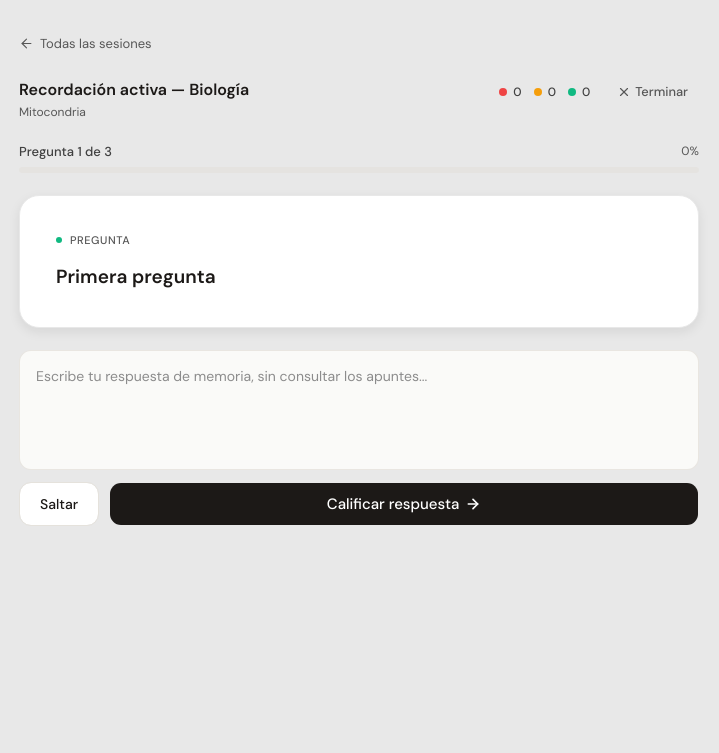
ActiveRecallPlayer persistence › 'Nueva sesión' during pending saves still saves into and finishes the old session
In the text box with test id "answer-textarea": (359, 410) [19,350,699,470], type "a"
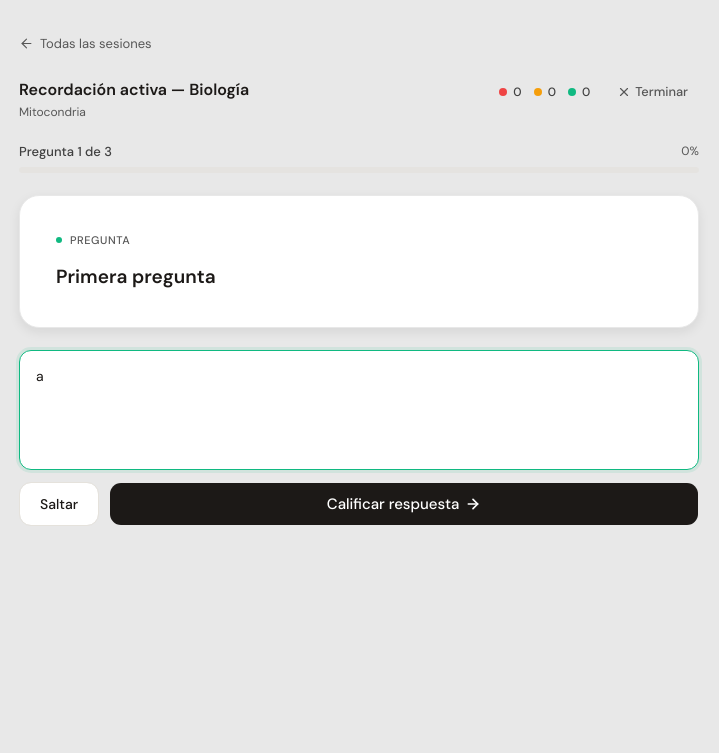
Click the button "Calificar respuesta": click(404, 504) [109,482,699,526]
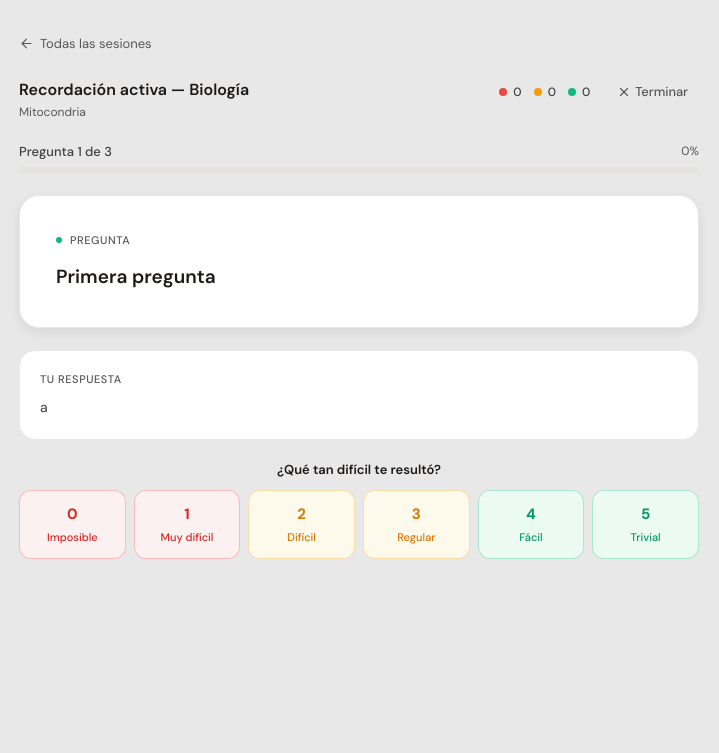
Click the button "4 Fácil": click(531, 524) [478,490,584,559]
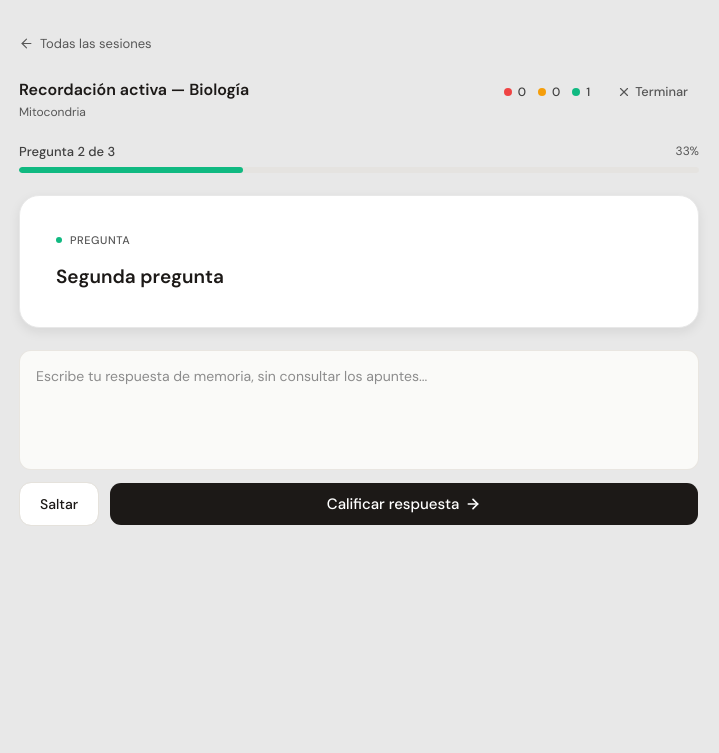
Click the button "Saltar": click(59, 504) [19,482,99,526]
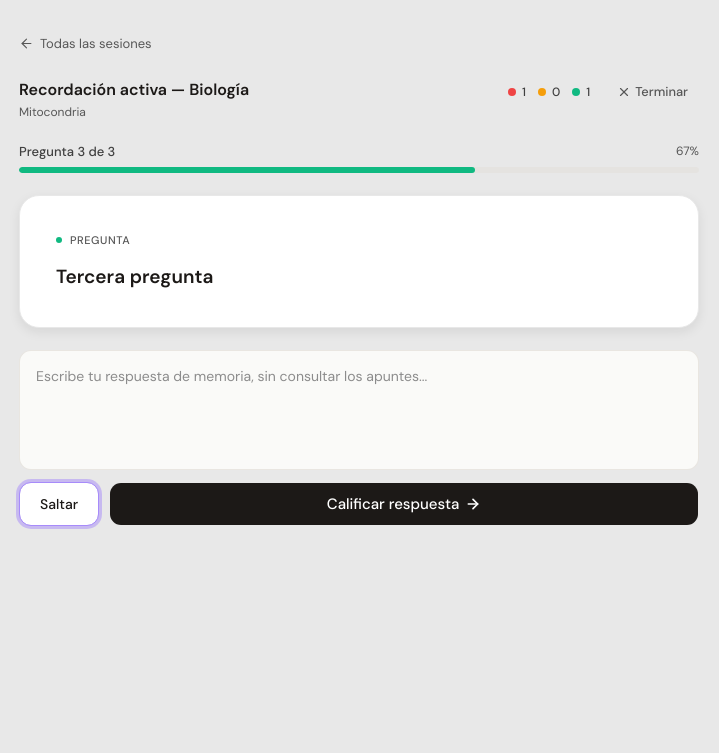
Click the button "Terminar": click(653, 92) [606,78,699,106]
(page scrolled)
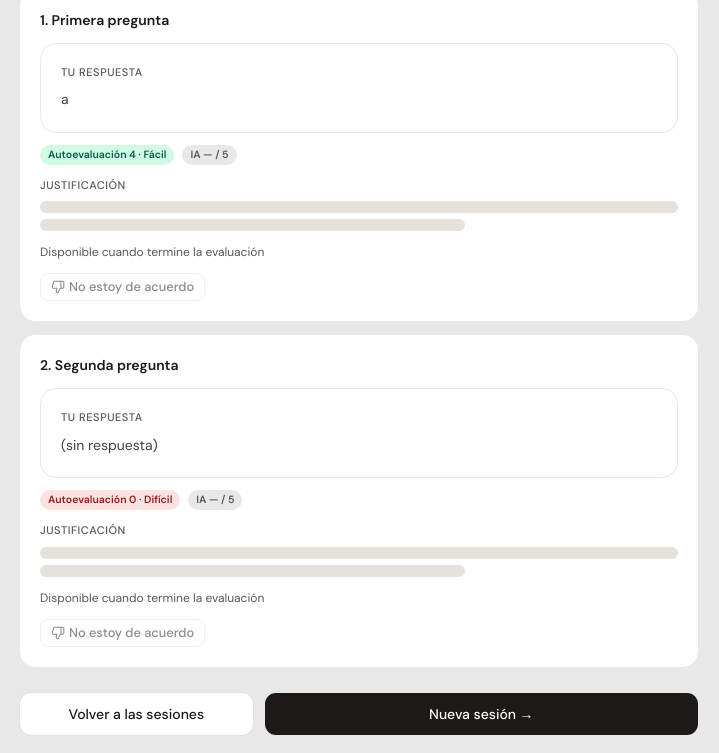
Click the button "Nueva sesión →": click(481, 714) [264,692,699,736]
(page scrolled)
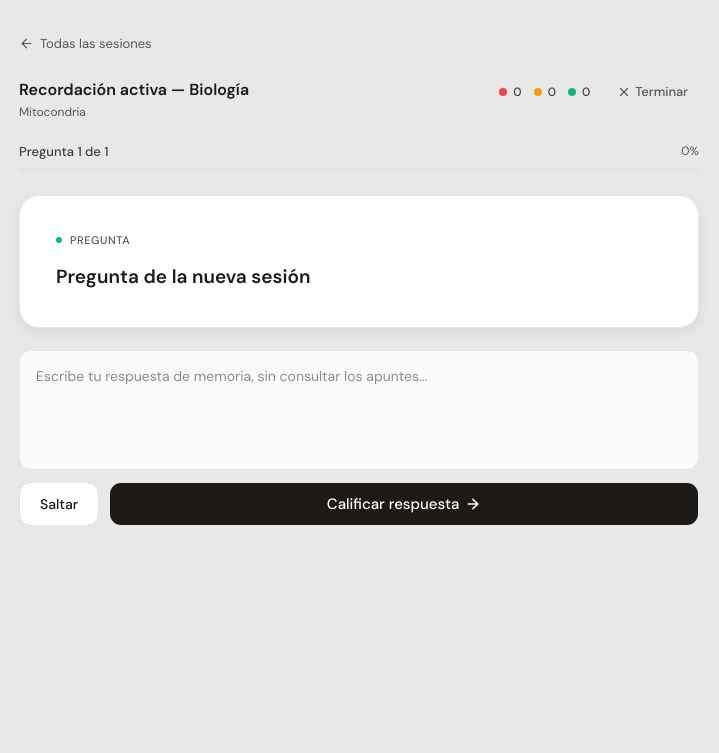
Expected: the text "Pregunta de la nueva sesión" is shown, [56,264,310,288]
